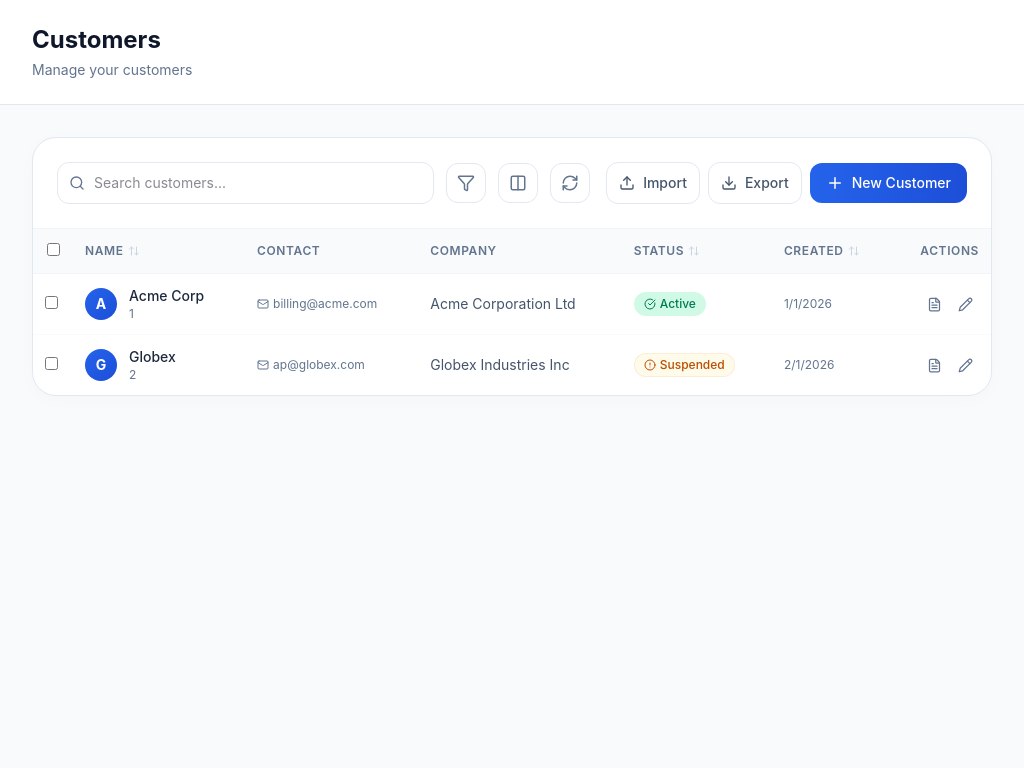
it: CustomerListPage › entitlement limit reached on create › shows the Subscription Limit Reached panel instead of a raw 403 or the technical entitlement key
Expected: the text "Acme Corp" is shown, x1=129 y1=286 x2=204 y2=306
Click the button "New Customer" at (888, 183), box x1=810 y1=163 x2=967 y2=203
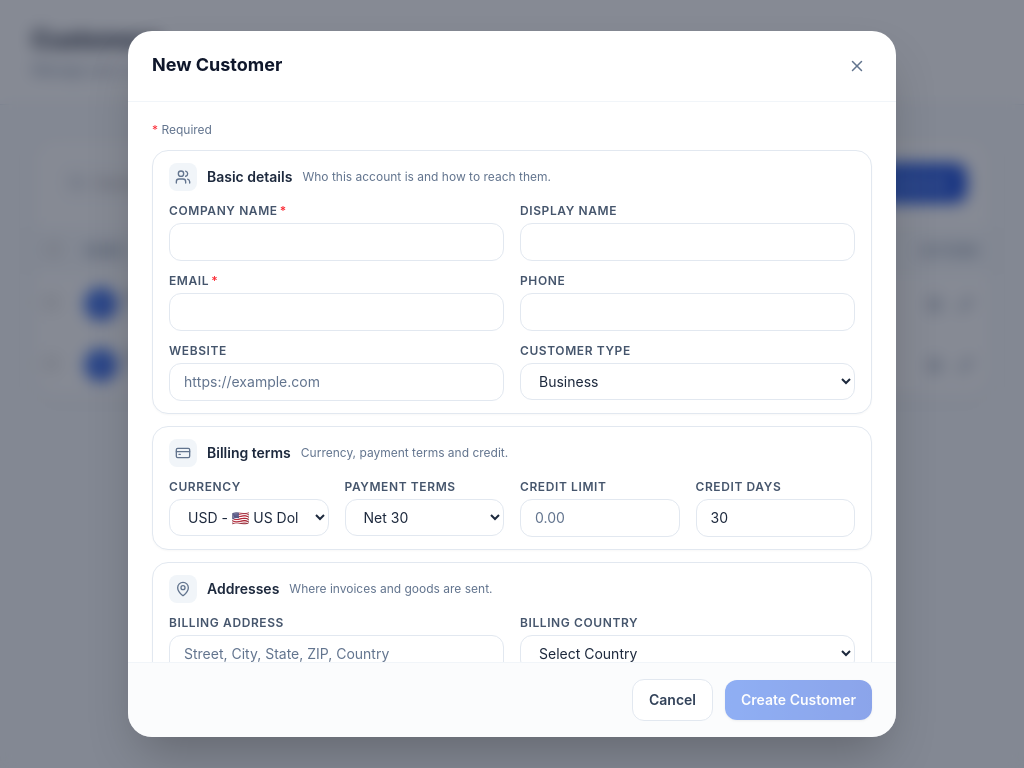
Type "New Co" into the field labelled "Company Name*" at (336, 242), box x1=169 y1=223 x2=504 y2=261
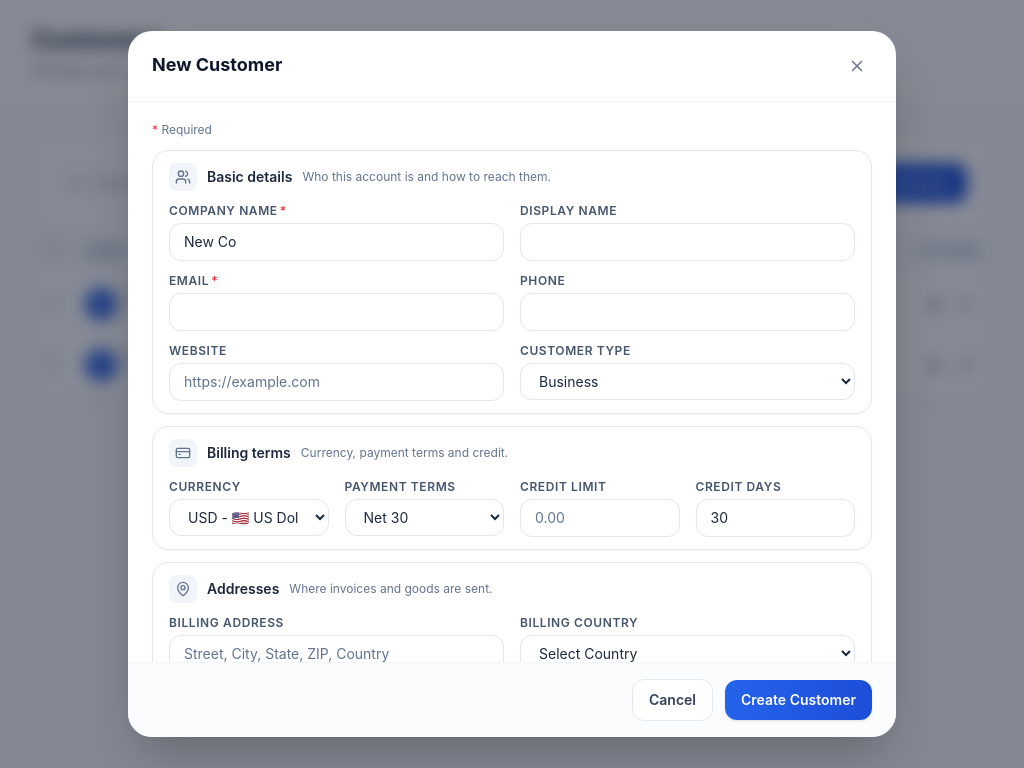
Type "new@co.com" into the field labelled "Email*" at (336, 312), box x1=169 y1=293 x2=504 y2=331
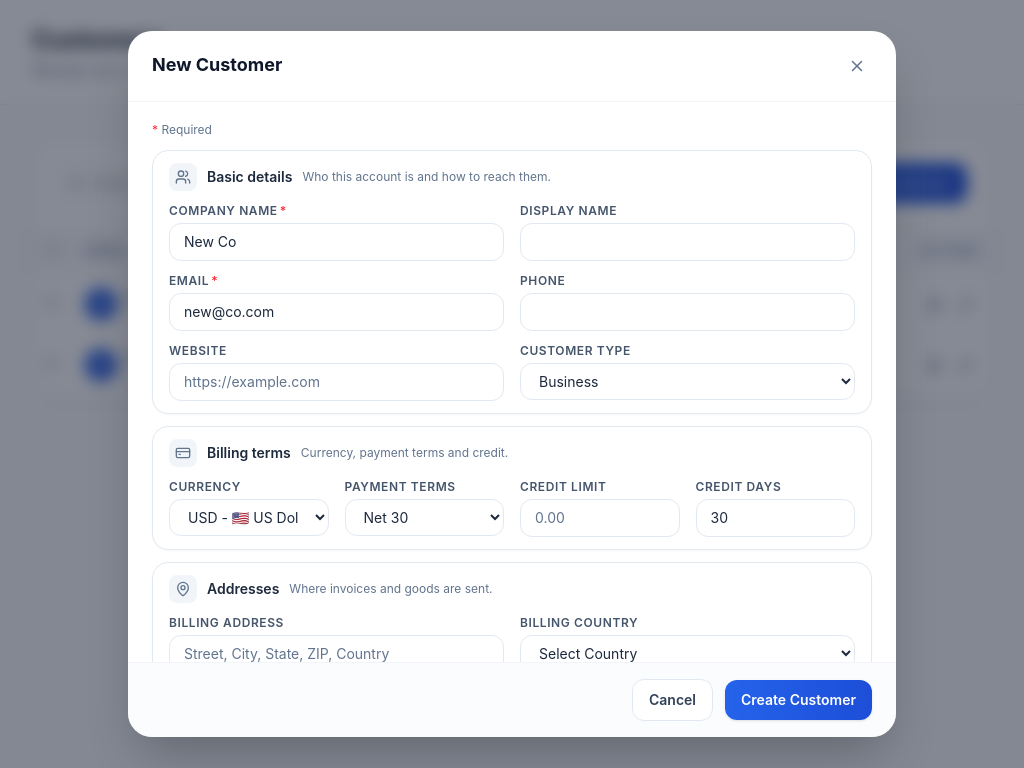
Click the button "Create Customer" at (798, 700), box x1=725 y1=680 x2=872 y2=720
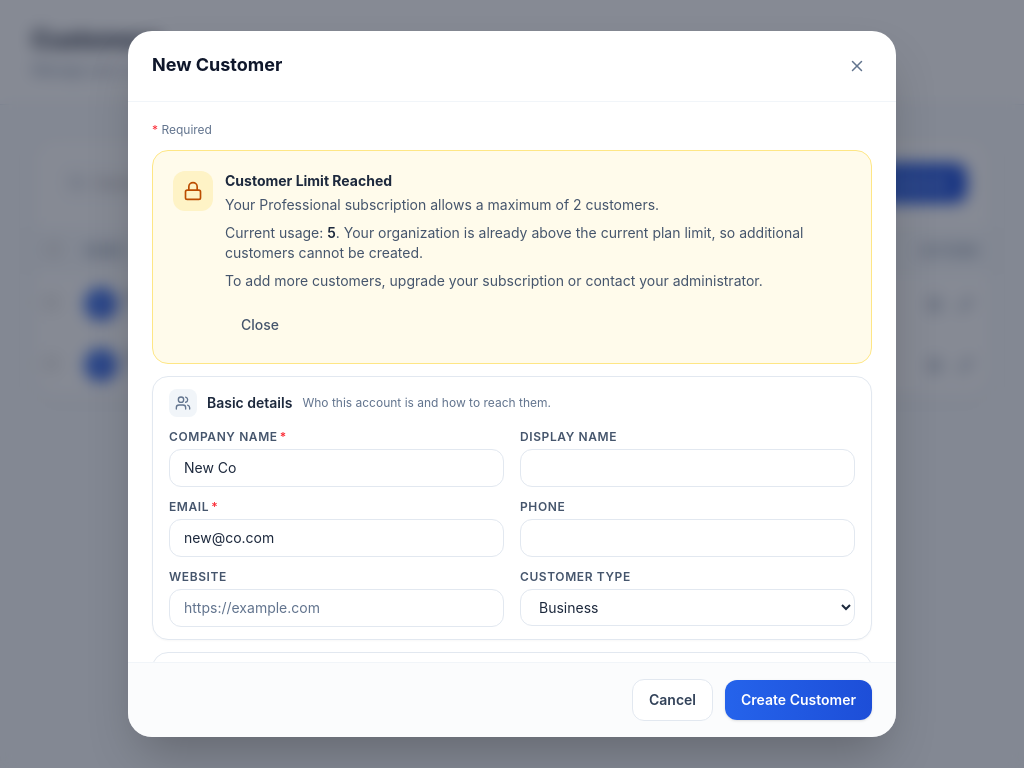
Expected: the heading "Customer Limit Reached" is shown, x1=225 y1=172 x2=392 y2=189
